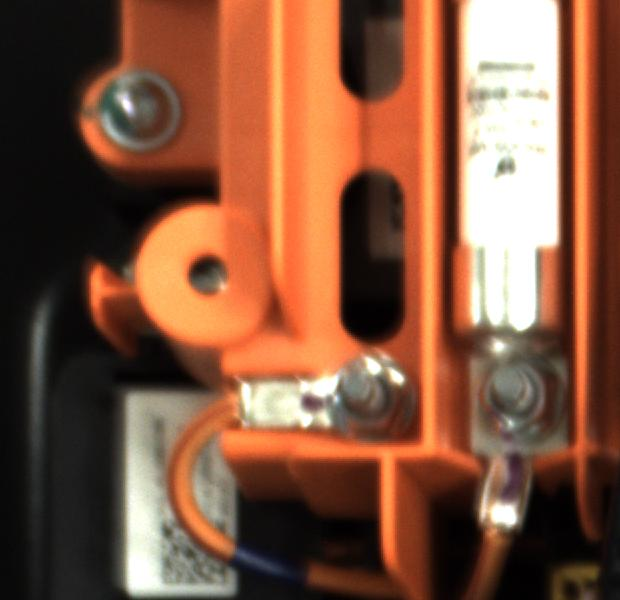screw_m: (87, 69, 190, 150)
screw_s: (476, 353, 582, 441), (319, 352, 419, 443)
